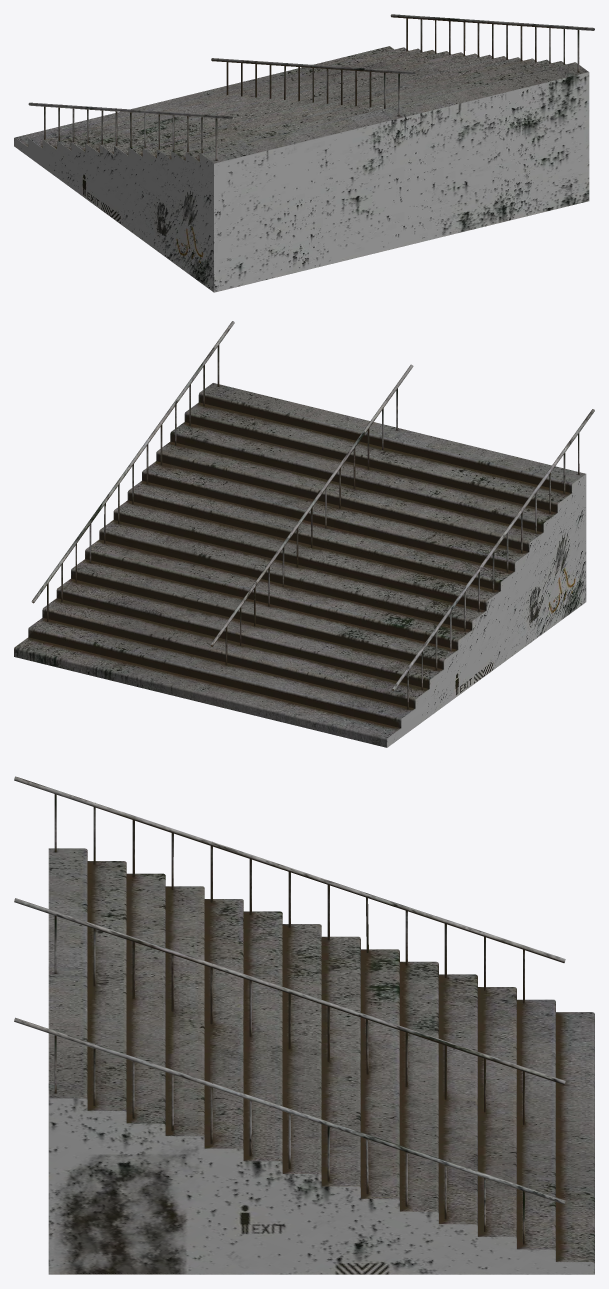
File: building_staircase.glb
The picture shows the model from 3 angles, top to bottom: view 1: azimuth 30°, elevation 25°; view 2: azimuth 150°, elevation 25°; view 3: azimuth 270°, elevation 25°; orthographic projection. The views are drawn at different scales.
Parts seen in each view (by area): view 1: Object_2; view 2: Object_2; view 3: Object_2.
Boxes of the visible parts, bbox=[...] form: Object_2: bbox=[14, 14, 594, 292]; Object_2: bbox=[14, 321, 594, 747]; Object_2: bbox=[14, 776, 594, 1274].
Size of the model in its own units: 1612 by 757 by 1584.
1 material, 1 textured.
